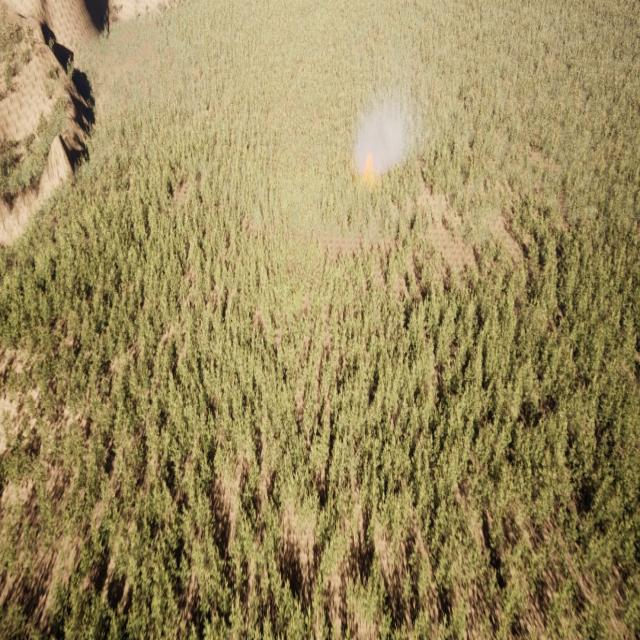fire: (363, 149, 378, 181)
smoke: (352, 76, 418, 180)
